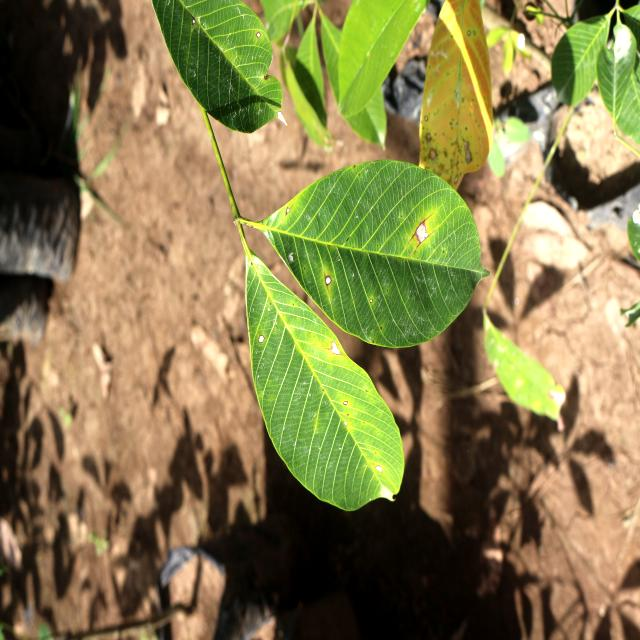Colletotrichum: (325, 275, 331, 286), (258, 334, 265, 342), (343, 401, 348, 405), (343, 421, 348, 425), (370, 299, 372, 303)
Corynespora: (407, 212, 435, 253)
Leaf-Blight: (329, 342, 341, 356)
